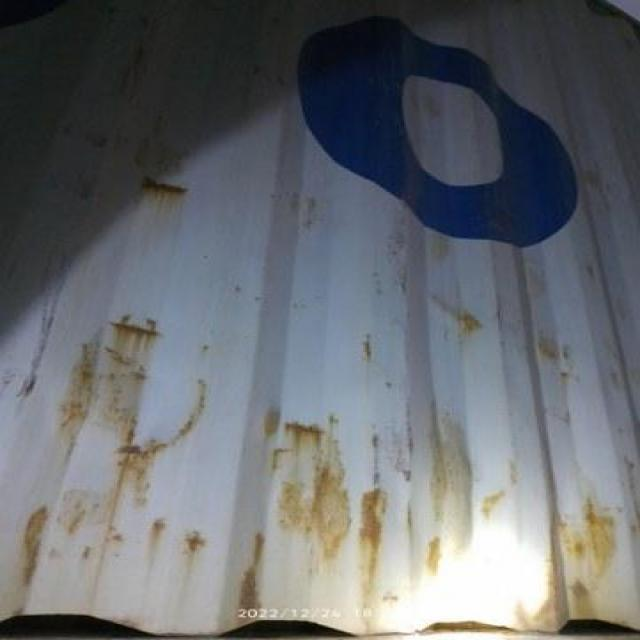Rust: (50, 314, 221, 476), (275, 414, 391, 559), (126, 154, 201, 218)
